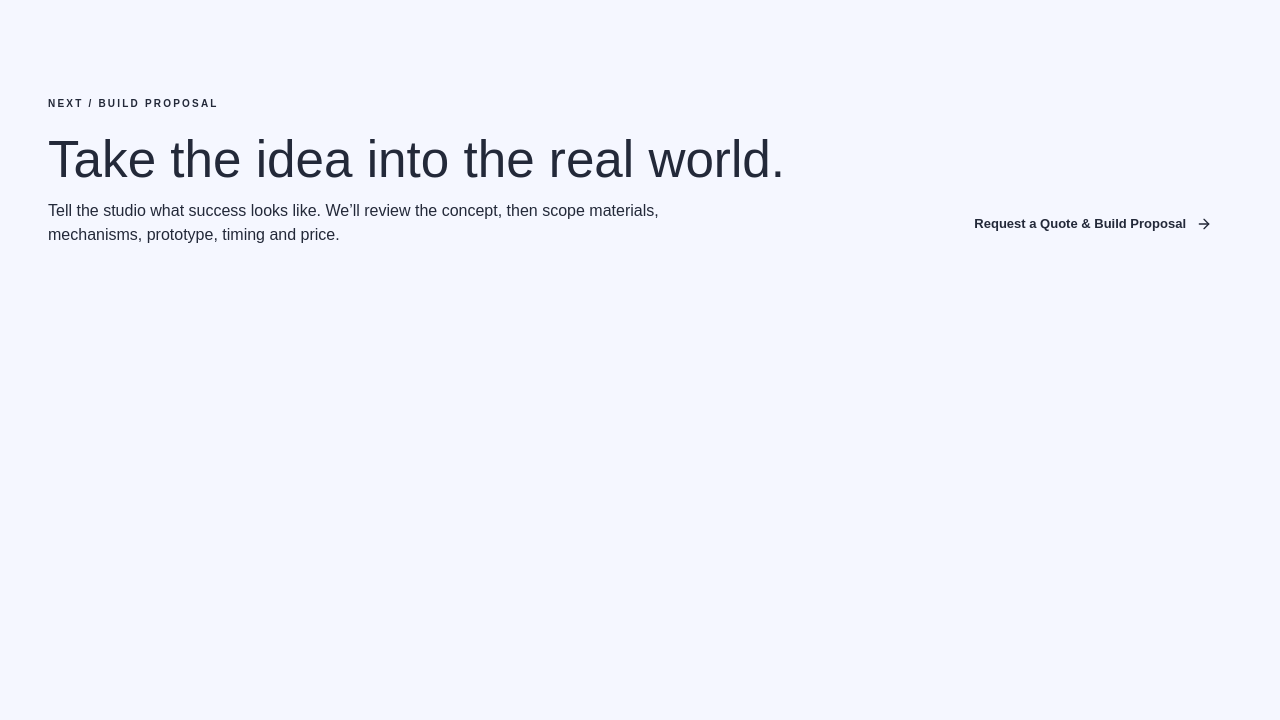
Scenario: Proposal request handoff › submits exactly the four saved image IDs and shows the saved reference
The image size is (1280, 720).
Click the button "Request a Quote & Build Proposal": (1093, 224) [954, 201, 1232, 247]
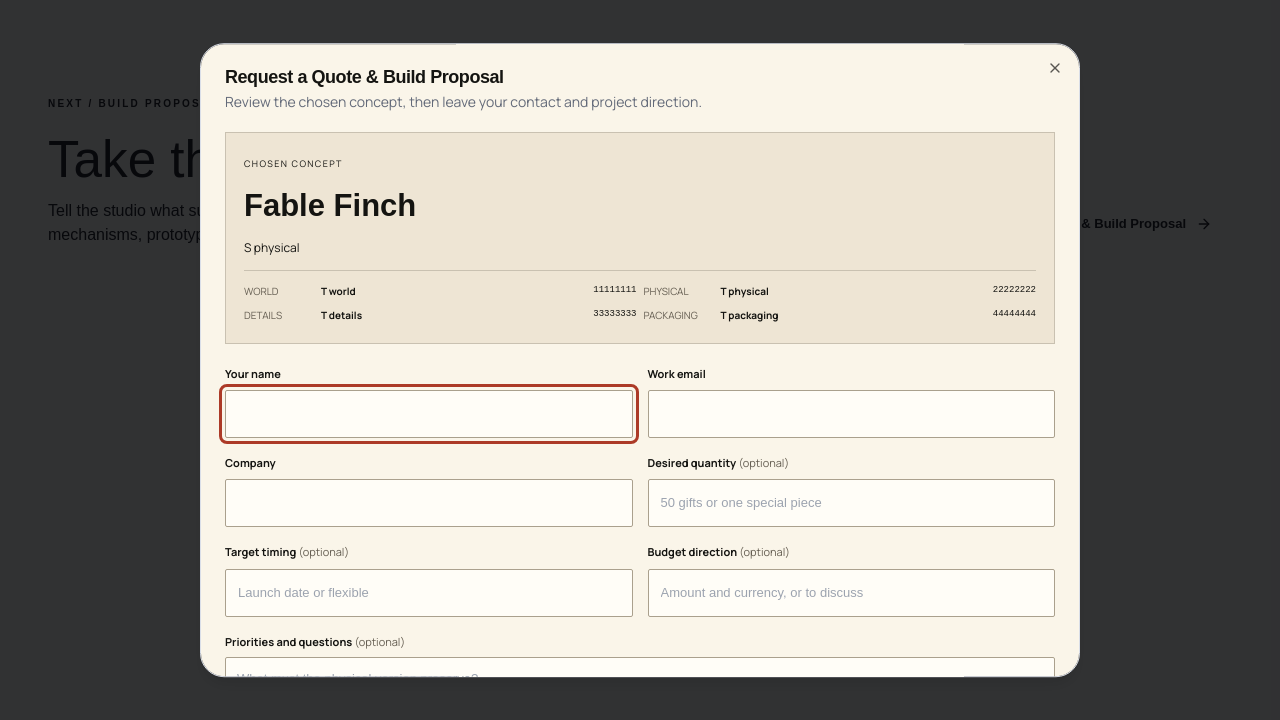
In the field labelled "Your name": (429, 414) [225, 390, 632, 438], type "Ana"
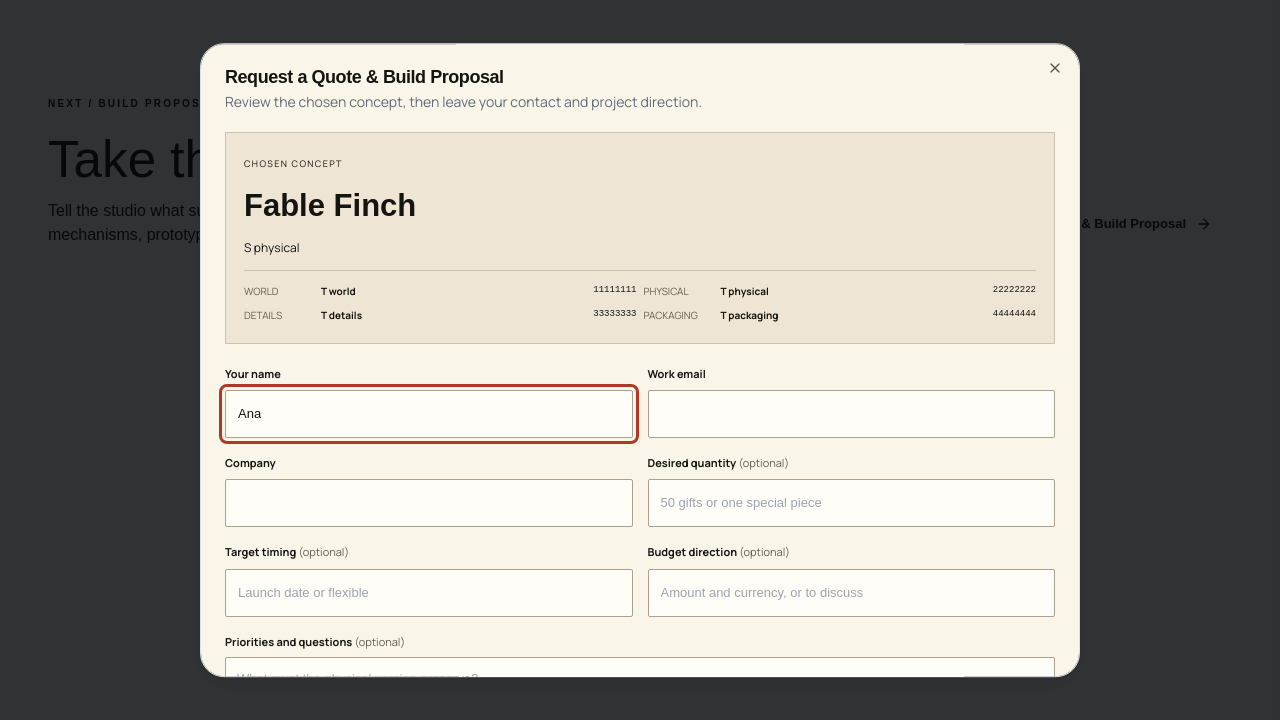
In the field labelled "Work email": (851, 414) [648, 390, 1055, 438], type "ana@example.com"
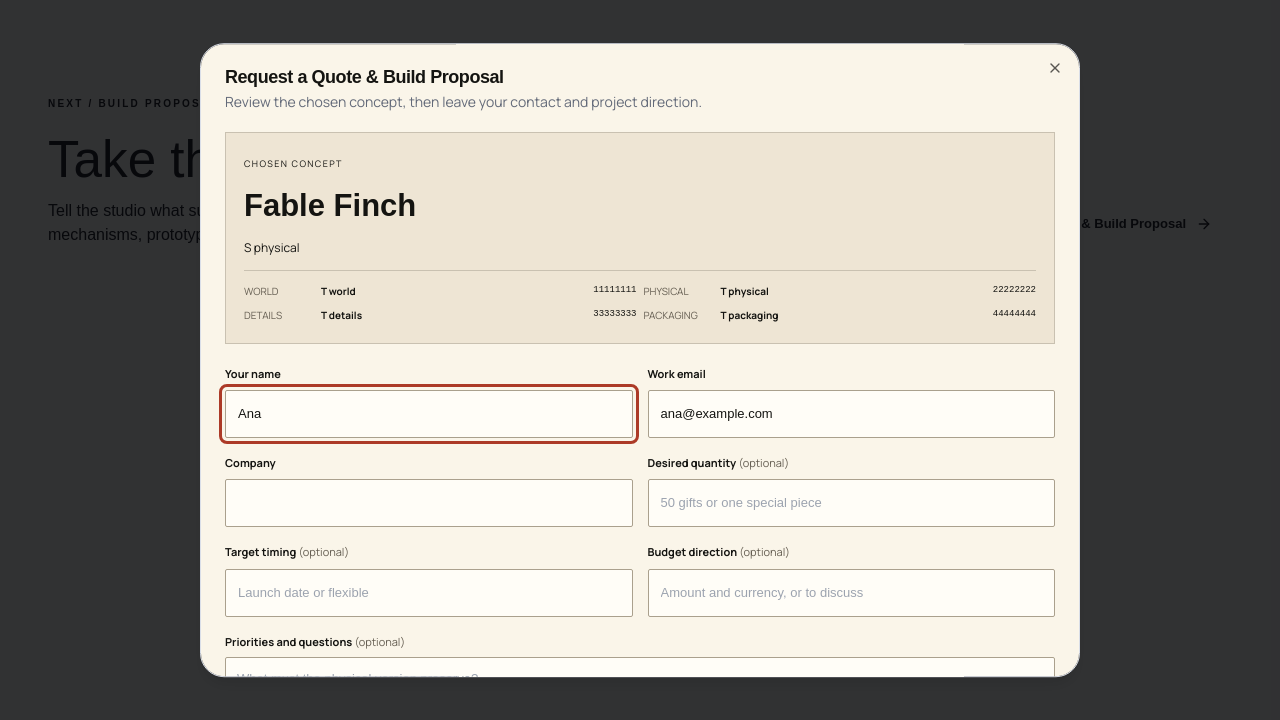
In the field labelled "Company": (429, 504) [225, 480, 632, 528], type "Acme"
(page scrolled)
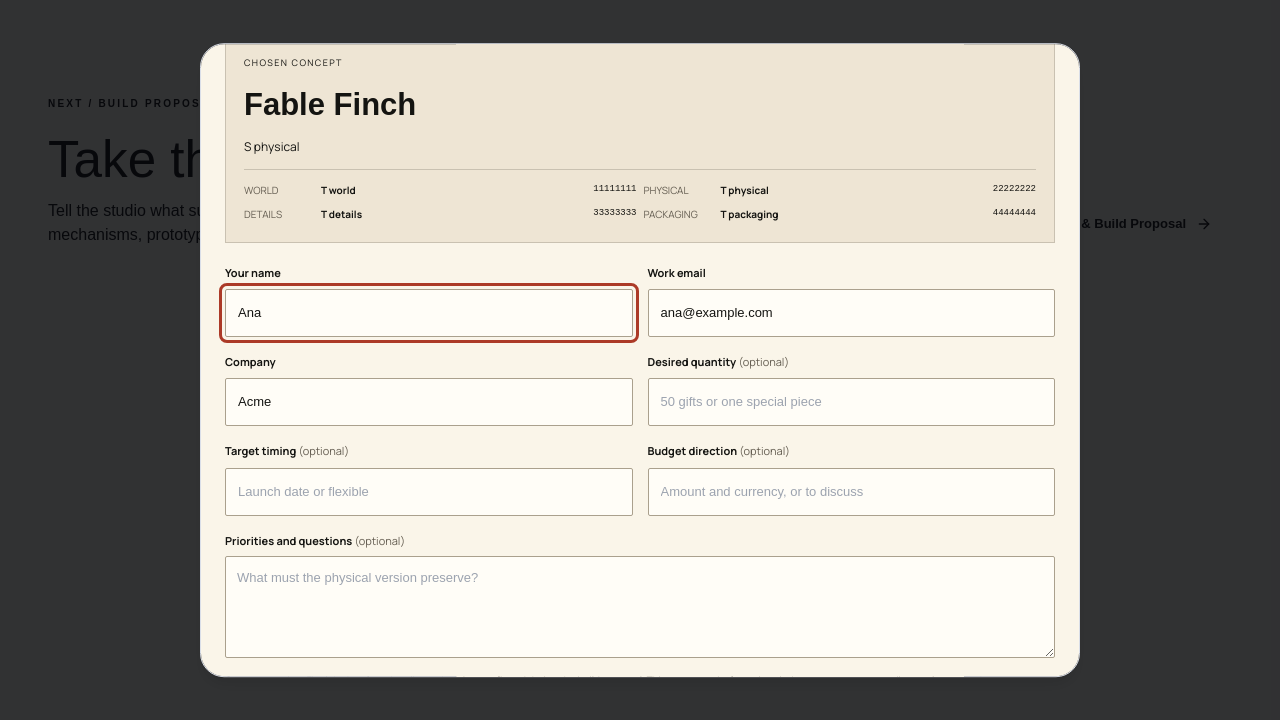
Submit the form named "Company"
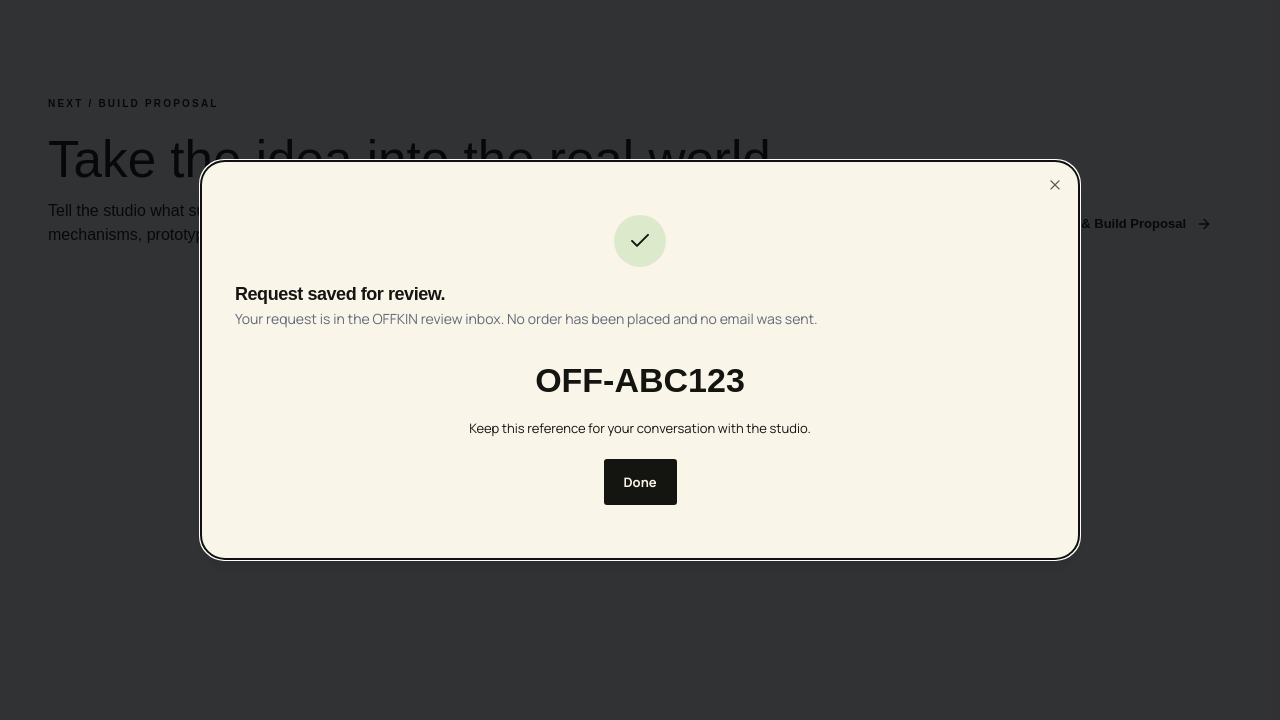
expect the text "OFF-ABC123" is shown: met, box [535, 361, 745, 399]
